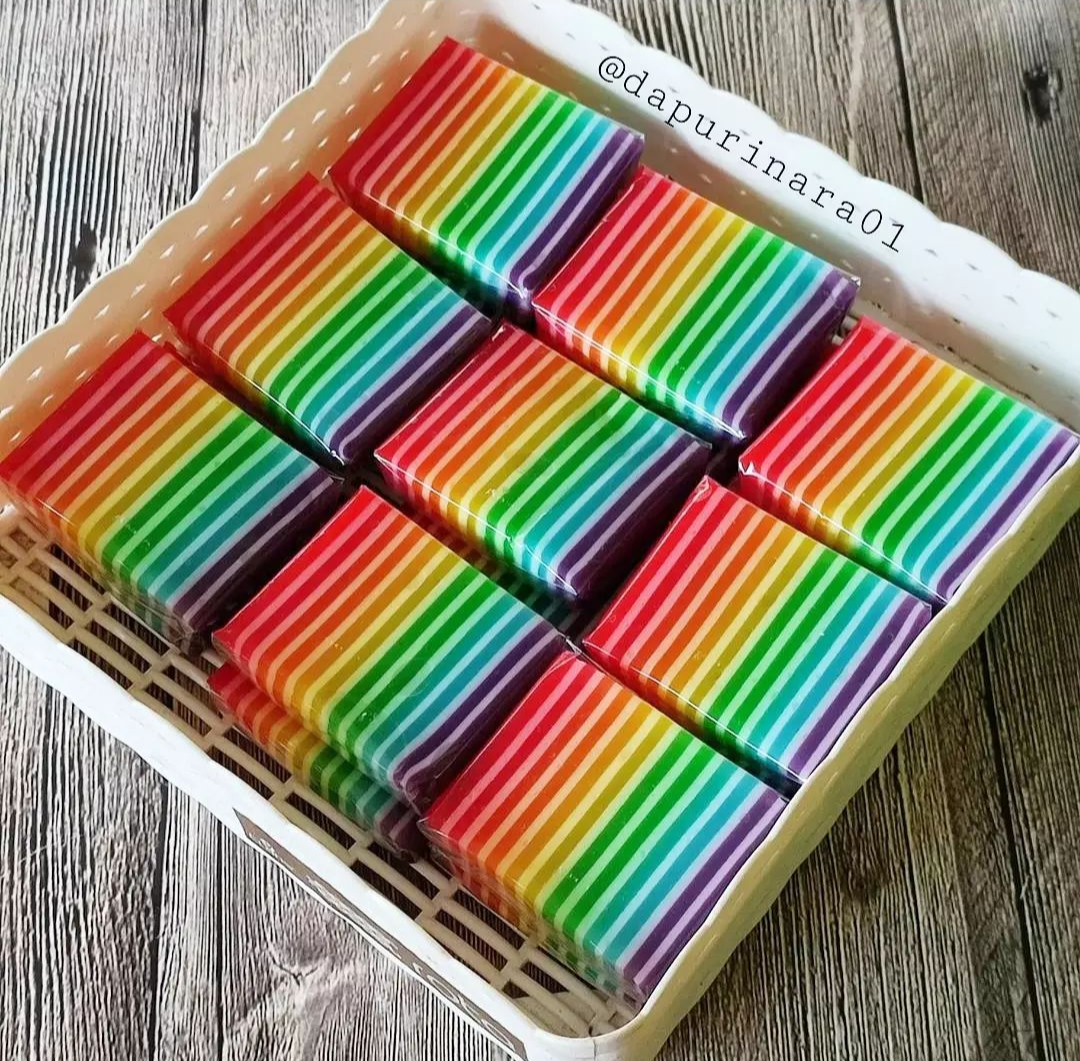kue_lapis_pelangi: (419, 650, 782, 1019), (208, 487, 570, 804), (583, 471, 927, 786), (4, 329, 339, 636), (158, 175, 490, 474), (745, 315, 1080, 603), (377, 324, 708, 595), (523, 161, 855, 427), (385, 33, 644, 309)
